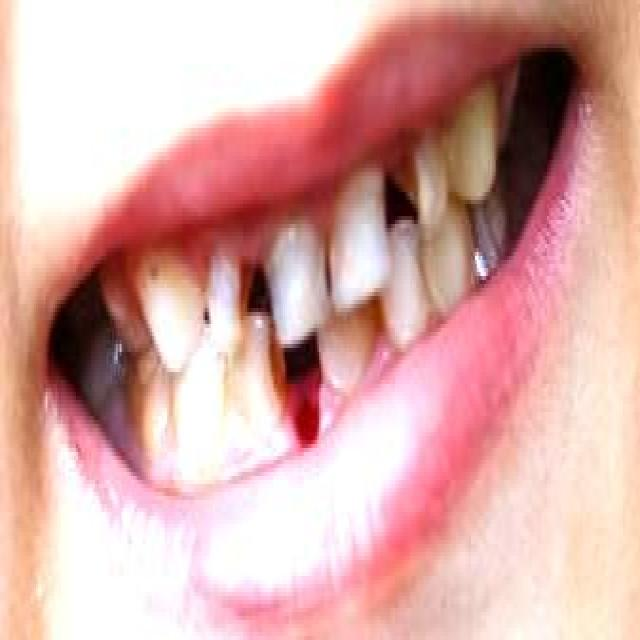caries: (389, 137, 431, 218), (258, 315, 294, 403), (226, 242, 260, 334)
